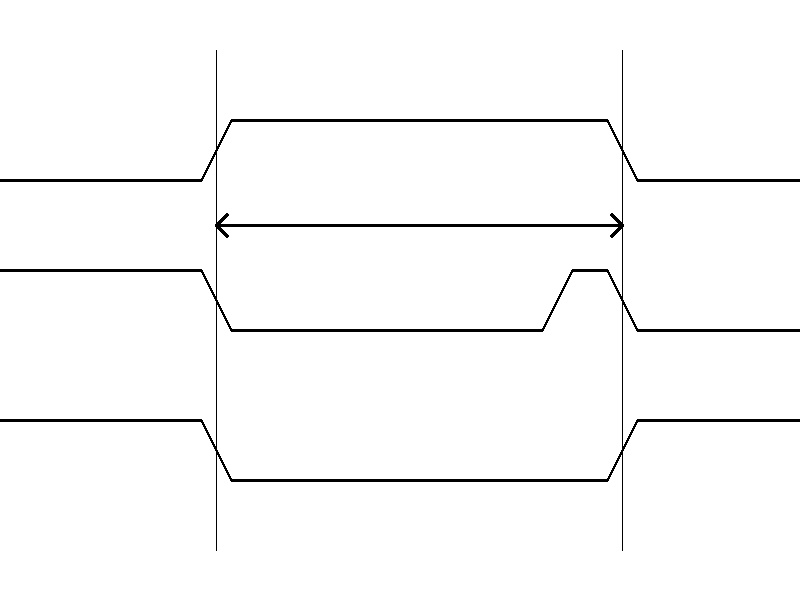double_arrow: (216, 210, 622, 240)
